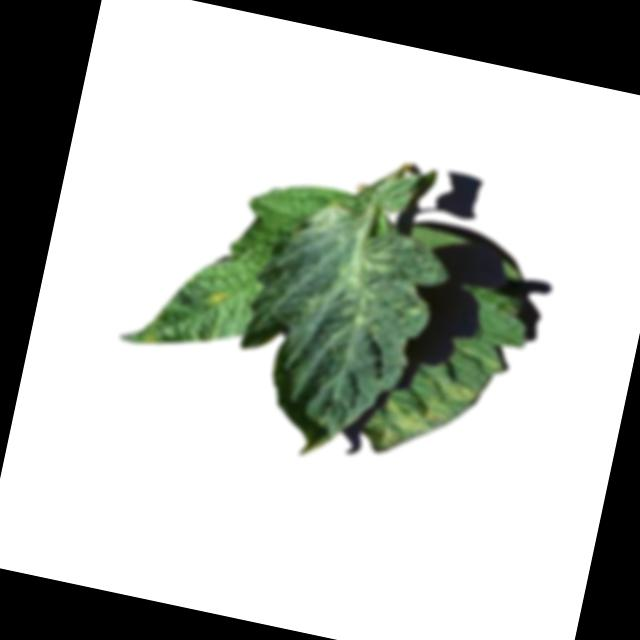Leaf_Mold: (373, 390, 457, 465), (295, 198, 351, 244), (438, 377, 484, 409), (199, 283, 234, 311), (139, 328, 165, 348)
